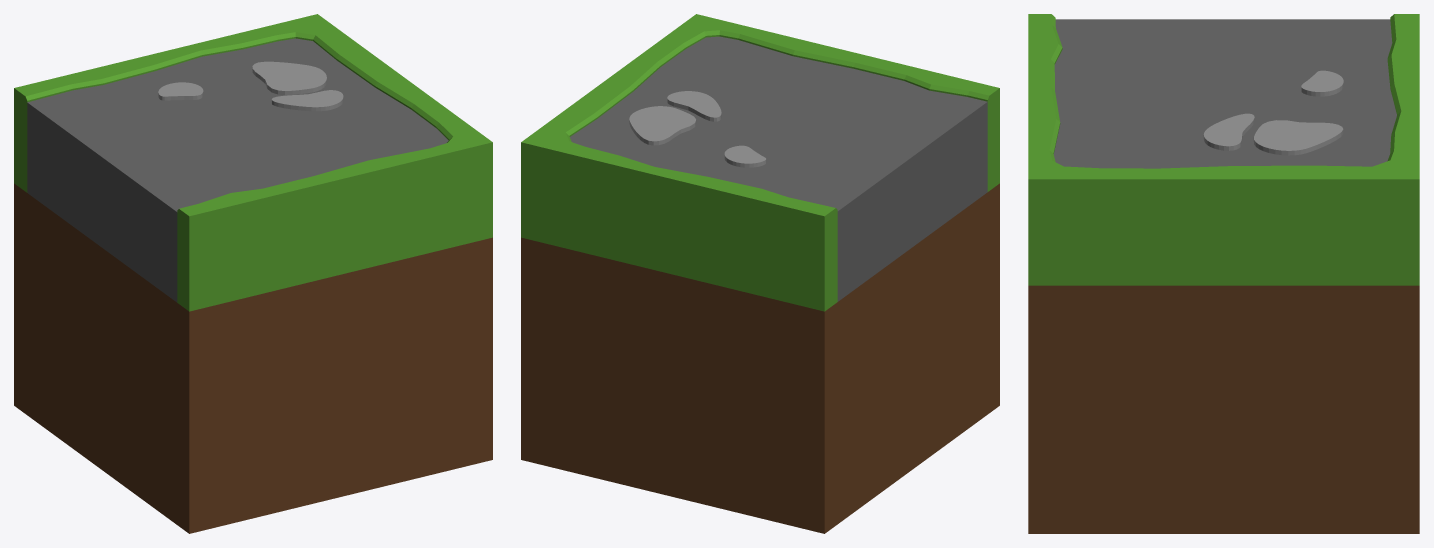
The model's file is Basement-Grass 8.fbx.
The picture shows the model from 3 angles, left to right: view 1: azimuth 30°, elevation 25°; view 2: azimuth 150°, elevation 25°; view 3: azimuth 270°, elevation 25°; orthographic projection. The views are drawn at different scales.
Parts seen in each view (by area): view 1: Basement/Grass fade 5; view 2: Basement/Grass fade 5; view 3: Basement/Grass fade 5.
Boxes of the visible parts, <box> form: Basement/Grass fade 5: <box>14,14,492,533</box>; Basement/Grass fade 5: <box>521,14,999,533</box>; Basement/Grass fade 5: <box>1028,14,1419,533</box>.
Bounding box in the file's own units: 2 × 2 × 2.
